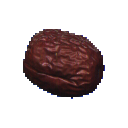ng: (18, 25, 111, 107)
